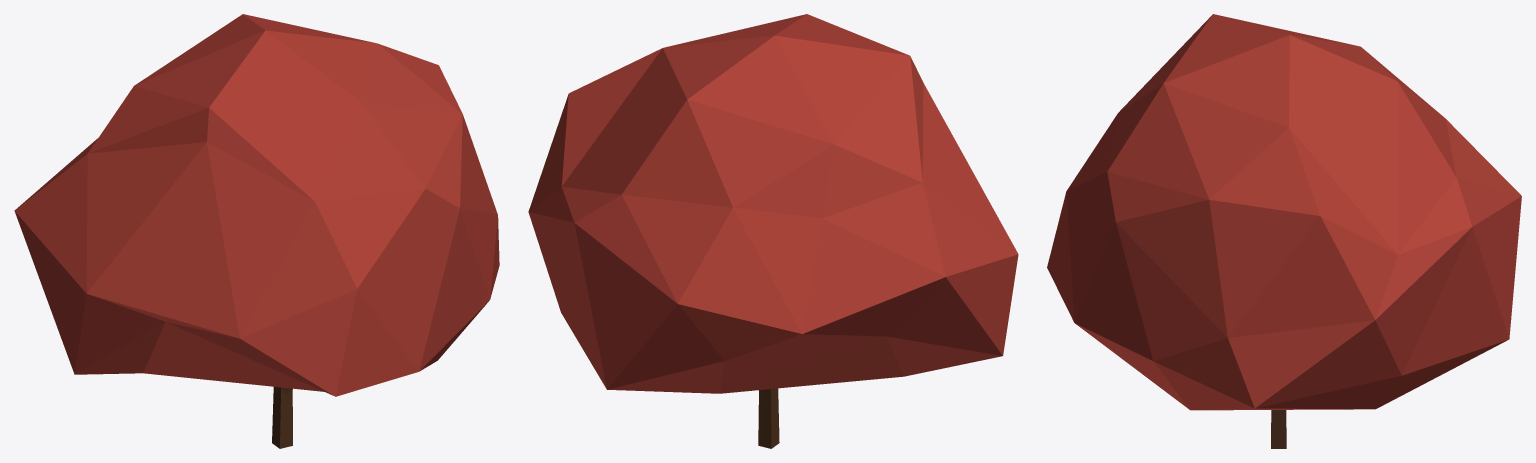
Rendered from Tree_18_Red.fbx.
3 renders of one model, left to right at view 1: azimuth 30°, elevation 25°; view 2: azimuth 150°, elevation 25°; view 3: azimuth 270°, elevation 25°, orthographic. The views are drawn at different scales.
Parts seen in each view (by area): view 1: Tree_18_Red_Part_1, Tree_18_Red_Part_2; view 2: Tree_18_Red_Part_1, Tree_18_Red_Part_2; view 3: Tree_18_Red_Part_1, Tree_18_Red_Part_2.
Boxes of the visible parts, x1=… form: Tree_18_Red_Part_1: x1=14, y1=14, x2=499, y2=396; Tree_18_Red_Part_2: x1=272, y1=386, x2=292, y2=448; Tree_18_Red_Part_1: x1=528, y1=14, x2=1018, y2=393; Tree_18_Red_Part_2: x1=758, y1=388, x2=779, y2=448; Tree_18_Red_Part_1: x1=1047, y1=14, x2=1521, y2=410; Tree_18_Red_Part_2: x1=1271, y1=410, x2=1286, y2=448.
Size of the model in its own units: 804 by 743 by 788.
